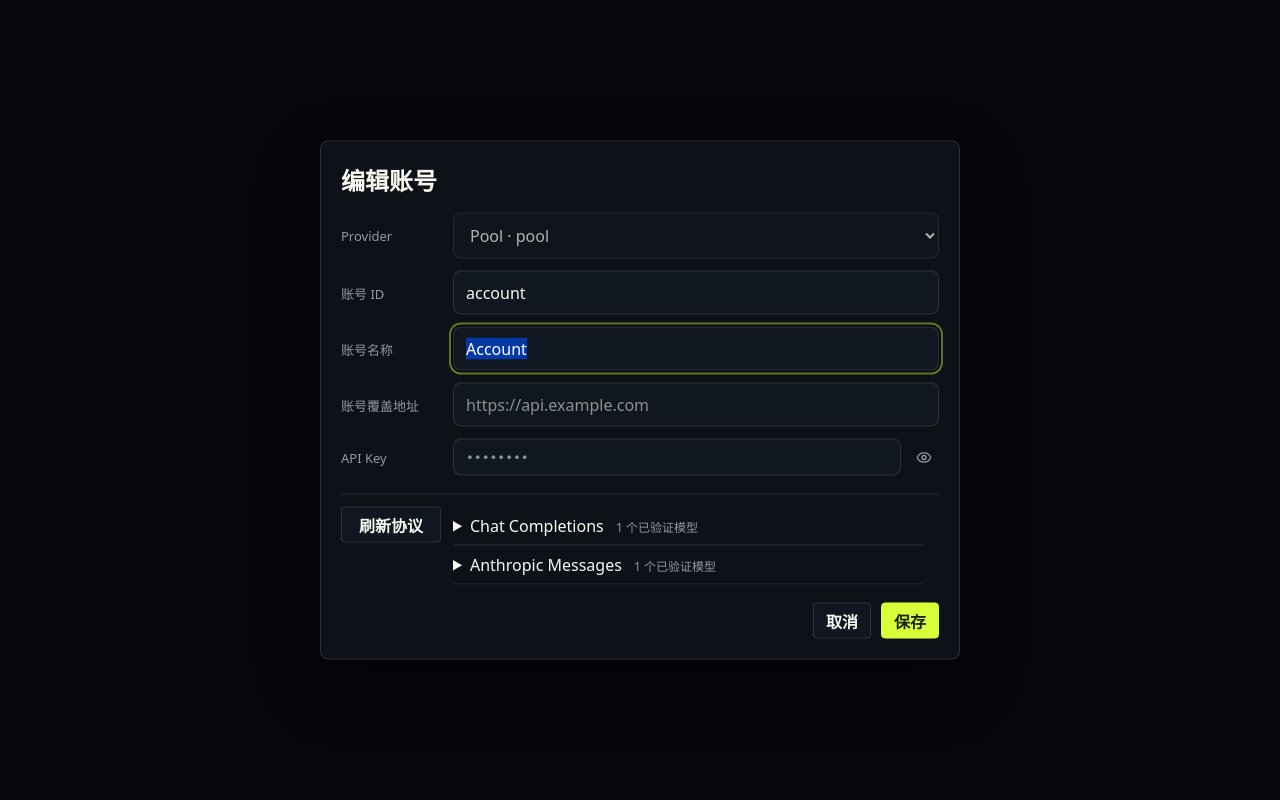
it: refreshes stored credentials without revealing secrets and preserves results on failure
Click the button "刷新协议" at (391, 524), box [341,506,441,542]
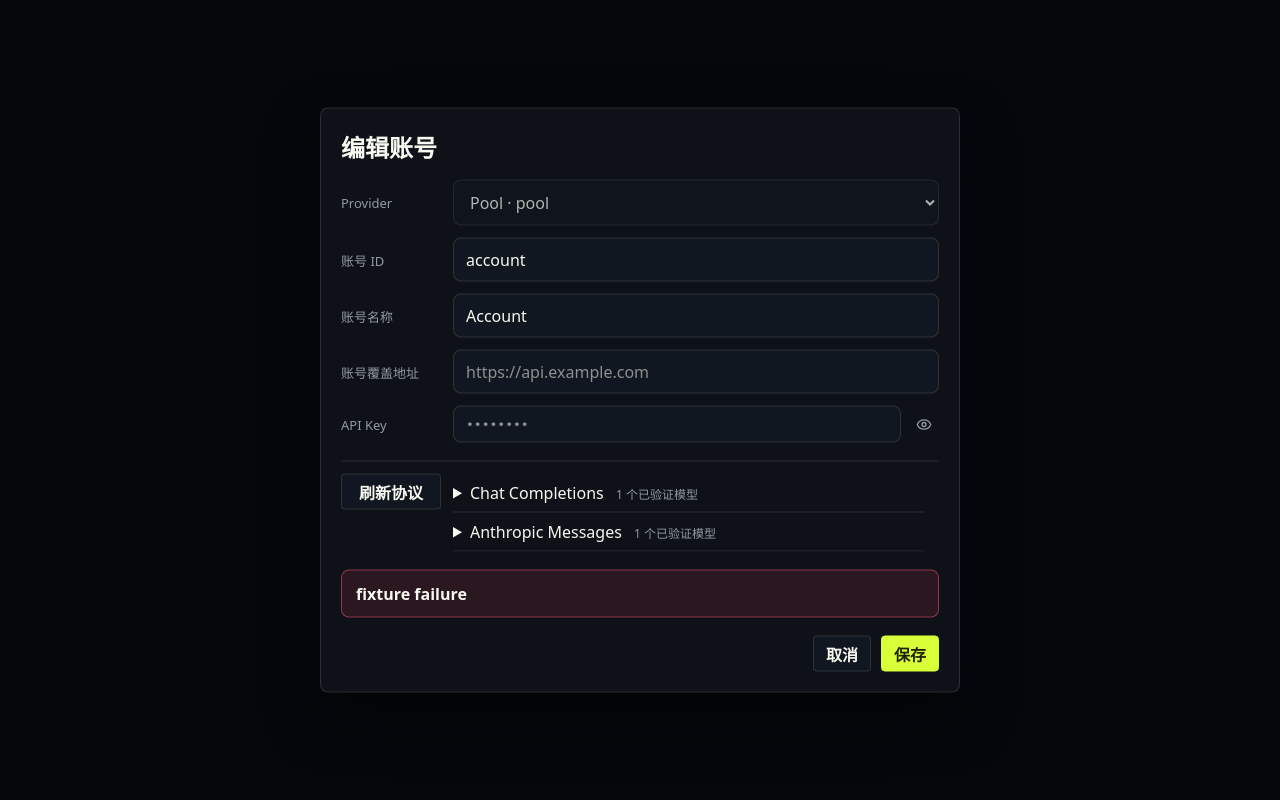
Expected: the heading "Chat Completions 1 个已验证模型" is shown, [470,482,698,504]
Expected: the message reads "fixture failure", [356,582,467,604]
